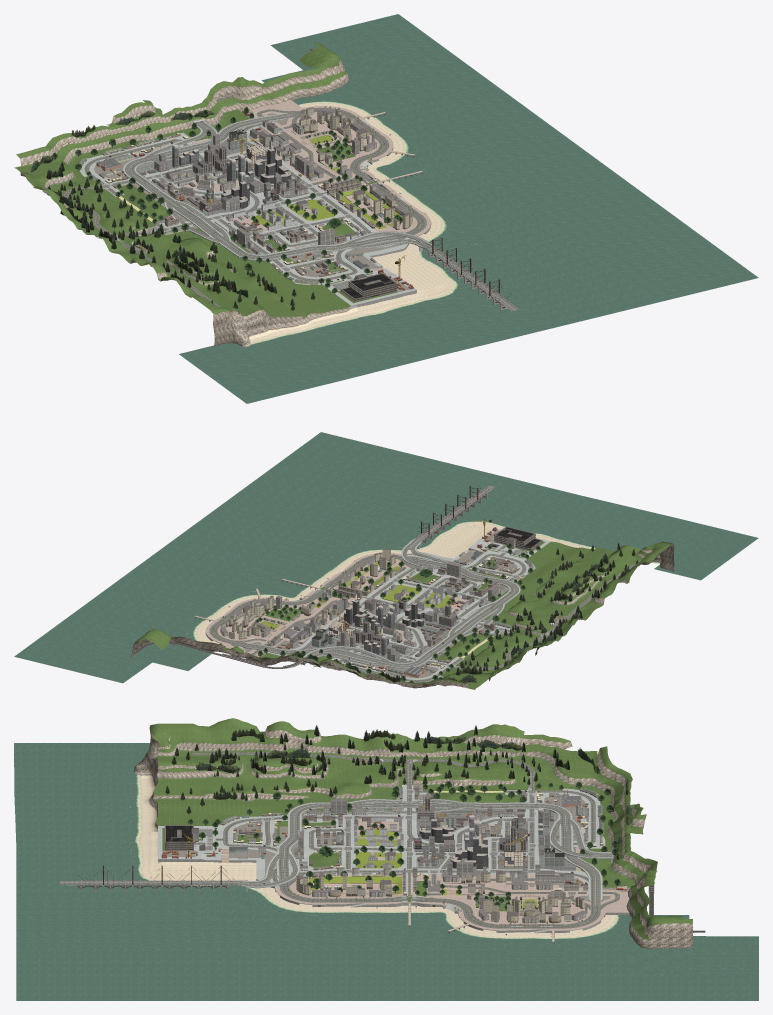
File: burnin_rubber_crash_n_burn_city.glb
3 renders of one model, top to bottom at view 1: azimuth 30°, elevation 25°; view 2: azimuth 150°, elevation 25°; view 3: azimuth 270°, elevation 25°, orthographic. The views are drawn at different scales.
Visible parts, largest first — view 1: 04_10_WorldCityStreet, 02_03_WorldCityStreet, 08_11_WorldCityStreet, 05_10_WorldCityStreet, 03_10_WorldCityStreet, 10_12_WorldCitySea, 01_02_WorldCitySea, 05_08_WorldCityBuildings, 01_01_WorldCitySea, 07_04_WorldCitySea, 08_06_WorldCitySea, 09_08_WorldCitySea (+89 smaller); view 2: 09_12_WorldCitySea, 10_12_WorldCitySea, 01_01_WorldCitySea, 07_04_WorldCitySea, 08_06_WorldCitySea, 09_08_WorldCitySea, 01_02_WorldCitySea, 09_06_WorldCitySea, 10_08_WorldCitySea, 03_01_WorldCitySea, 10_06_WorldCitySea, 08_04_WorldCitySea (+88 smaller); view 3: 02_03_WorldCityStreet, 08_11_WorldCityStreet, 02_09_WorldCityStreet, 02_04_WorldCityStreet, 02_08_WorldCityStreet, 02_06_WorldCityStreet, 09_12_WorldCitySea, 10_12_WorldCitySea, 02_07_WorldCityStreet, 03_04_WorldCityStreet, 01_02_WorldCitySea, 07_04_WorldCitySea (+122 smaller).
Part boxes in pixels (<box>): 04_10_WorldCityStreet: <box>99,102,181,161</box>; 02_03_WorldCityStreet: <box>216,296,288,347</box>; 08_11_WorldCityStreet: <box>295,43,349,97</box>; 05_10_WorldCityStreet: <box>152,104,228,149</box>; 03_10_WorldCityStreet: <box>48,126,129,175</box>; 10_12_WorldCitySea: <box>347,14,431,50</box>; 01_02_WorldCitySea: <box>186,346,271,381</box>; 05_08_WorldCityBuildings: <box>213,148,291,193</box>; 01_01_WorldCitySea: <box>217,368,301,403</box>; 07_04_WorldCitySea: <box>439,227,514,261</box>; 08_06_WorldCitySea: <box>424,172,506,206</box>; 09_08_WorldCitySea: <box>418,116,498,150</box>; 09_12_WorldCitySea: <box>58,646,129,677</box>; 10_12_WorldCitySea: <box>14,636,86,667</box>; 01_01_WorldCitySea: <box>687,526,758,556</box>; 07_04_WorldCitySea: <box>351,520,417,547</box>; 08_06_WorldCitySea: <box>256,546,325,576</box>; 09_08_WorldCitySea: <box>162,572,231,601</box>; 01_02_WorldCitySea: <box>673,545,732,575</box>; 09_06_WorldCitySea: <box>212,535,281,564</box>; 10_08_WorldCitySea: <box>118,561,187,590</box>; 03_01_WorldCitySea: <box>603,506,671,535</box>; 10_06_WorldCitySea: <box>168,525,237,554</box>; 08_04_WorldCitySea: <box>307,509,375,538</box>; 02_03_WorldCityStreet: <box>133,737,199,795</box>; 08_11_WorldCityStreet: <box>629,903,705,948</box>; 02_09_WorldCityStreet: <box>505,747,570,786</box>; 02_04_WorldCityStreet: <box>198,742,261,782</box>; 02_08_WorldCityStreet: <box>443,750,506,787</box>; 02_06_WorldCityStreet: <box>321,747,384,784</box>; 09_12_WorldCitySea: <box>688,949,758,974</box>; 10_12_WorldCitySea: <box>689,975,758,1000</box>; 02_07_WorldCityStreet: <box>383,748,448,786</box>; 03_04_WorldCityStreet: <box>198,781,260,814</box>; 01_02_WorldCitySea: <box>75,743,139,770</box>; 07_04_WorldCitySea: <box>200,898,278,923</box>.
Size of the model in its own units: 24.92 by 1.93 by 30.41.
7 materials, 7 textured.
